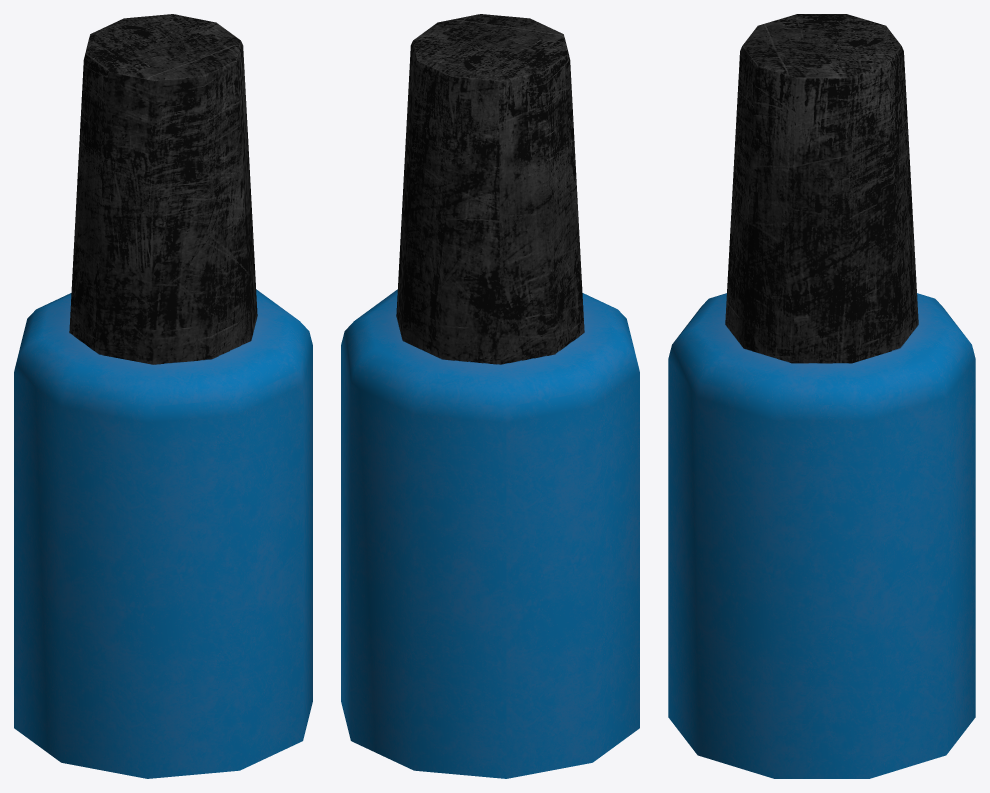
The model's file is nail polish_lp.FBX.
The picture shows the model from 3 angles, left to right: view 1: azimuth 30°, elevation 25°; view 2: azimuth 150°, elevation 25°; view 3: azimuth 270°, elevation 25°; orthographic projection.
Visible parts, largest first — view 1: nail polish; view 2: nail polish; view 3: nail polish.
Boxes of the visible parts, bbox=[...] form: nail polish: bbox=[14, 14, 312, 778]; nail polish: bbox=[341, 14, 639, 778]; nail polish: bbox=[668, 14, 975, 778].
Size of the model in its own units: 9.24 by 23.45 by 9.71.
Materials: 1 (1 with a texture image).
